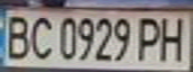0: (54, 12, 78, 61)
2: (93, 14, 115, 62)
9: (112, 14, 136, 62), (75, 14, 96, 62)
B: (0, 11, 33, 61)
C: (24, 12, 57, 61)
H: (154, 12, 190, 62)
P: (133, 14, 166, 62)
